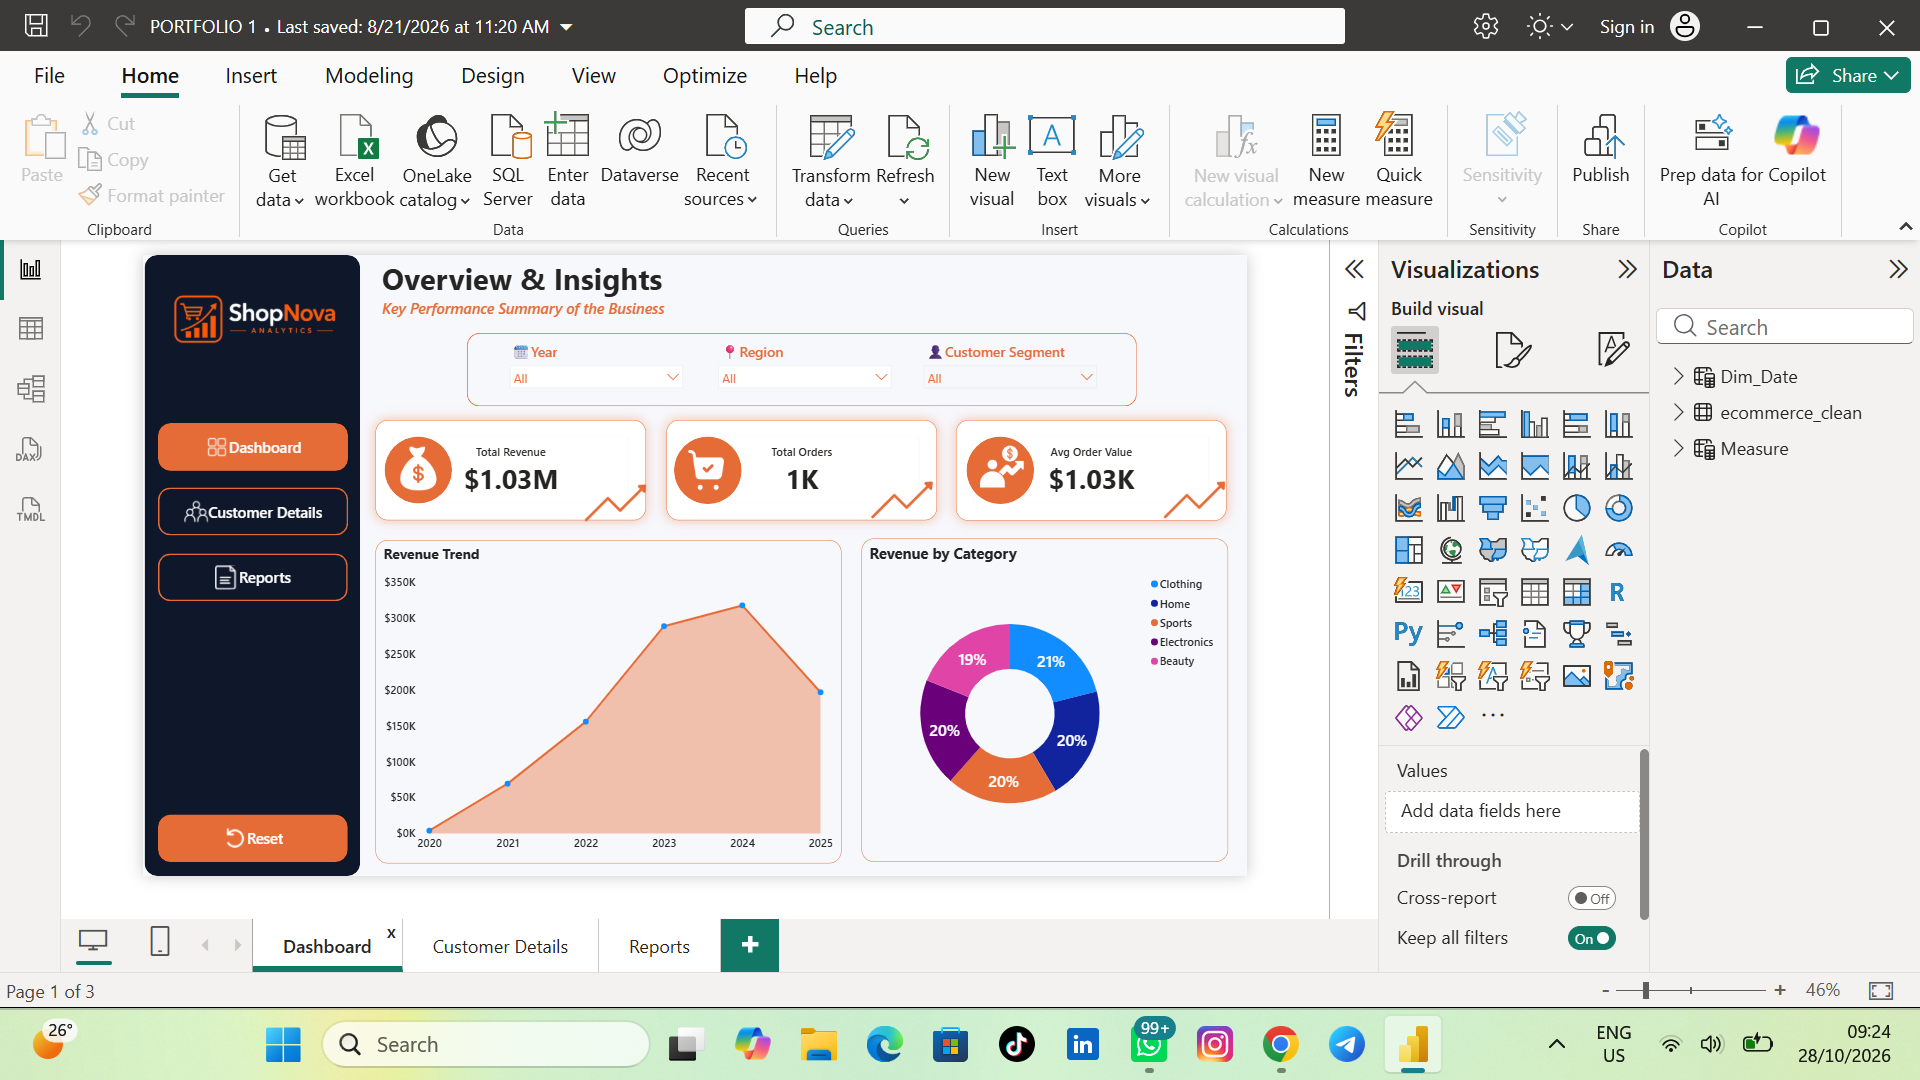

What the dashboard file says about the page in this screenshot:
{"tool":"powerbi","page":{"name":"Dashboard","canvas":[1600,900],"ordinal":0},"visuals":[{"type":"shape","box":[468.8,112.5,970.8,106.2],"z":0},{"type":"shape","box":[349,263.2,98,97],"z":0,"group":"g1"},{"type":"shape","box":[2.6,0,312.5,900],"z":1000},{"type":"image","box":[367.1,272.8,63.4,75.8],"z":1000,"group":"g1"},{"type":"image","box":[14.9,21.3,288,144],"z":3000},{"type":"textbox","box":[341.7,0,477.1,108.3],"z":4000},{"type":"slicer","fields":{"Values":["Dim_Date.Year"]},"box":[520.8,120.8,270.8,97.9],"z":5000},{"type":"slicer","fields":{"Values":["ecommerce_clean.country"]},"box":[822.9,120.8,270.8,97.9],"z":6000},{"type":"slicer","fields":{"Values":["ecommerce_clean.customer_id"]},"box":[1120.8,120.8,270.8,97.9],"z":7000},{"type":"cardVisual","fields":{"Data":["Measure.Total Revenue"]},"box":[337.5,239.7,391.7,145],"z":8000},{"type":"cardVisual","fields":{"Data":["Measure.Total Orders"]},"box":[758.3,239.7,391.7,145],"z":9000},{"type":"cardVisual","fields":{"Data":["Measure.Avg Order Value"]},"box":[1179.2,239.3,391.7,145.8],"z":10000},{"type":"lineChart","title":"Revenue Trend","fields":{"Category":["Dim_Date.Year","Dim_Date.Month"],"Y":["Measure.Total Revenue"]},"box":[337.5,412.5,675,468.8],"z":11000},{"type":"donutChart","title":"Revenue by Category","fields":{"Category":["ecommerce_clean.category"],"Y":["Measure.Total Revenue"]},"box":[1042,410,531.2,468.8],"z":12000},{"type":"actionButton","box":[0,38.8,100,2],"z":13000},{"type":"shape","box":[1193.9,263.3,98,98],"z":14000},{"type":"shape","box":[769.4,263.3,98,98],"z":15000},{"type":"image","box":[743,277,145,69],"z":16000},{"type":"group","id":"g1","title":"Group 1","box":[349,263.2,98,97],"z":17000},{"type":"image","box":[1212.5,245.8,63.3,122.4],"z":18000},{"type":"actionButton","box":[21.8,243.1,275.5,69.4],"z":19000},{"type":"actionButton","box":[21.8,337.2,275.5,69.4],"z":20000},{"type":"actionButton","box":[22.7,433.3,275,69],"z":22000},{"type":"actionButton","box":[21.3,810.6,275,69],"z":23000},{"type":"image","box":[634,250,100,218],"z":24000},{"type":"image","box":[1472.9,245.8,100,218],"z":25000},{"type":"image","box":[1050,245.8,100,218],"z":26000}]}

Visuals, with their boxes on the page's 1600x900 design canvas (x1, y1, x2, y2). These are canvas units, not pixel positions in the 1920x1080 screenshot, which may show the page scaled, cropped or inside an application window:
shape: l=469, t=112, r=1440, b=219
shape: l=349, t=263, r=447, b=360
shape: l=3, t=0, r=315, b=900
image: l=367, t=273, r=430, b=349
image: l=15, t=21, r=303, b=165
textbox: l=342, t=0, r=819, b=108
slicer - Dim_Date.Year: l=521, t=121, r=792, b=219
slicer - ecommerce_clean.country: l=823, t=121, r=1094, b=219
slicer - ecommerce_clean.customer_id: l=1121, t=121, r=1392, b=219
cardVisual - Measure.Total Revenue: l=338, t=240, r=729, b=385
cardVisual - Measure.Total Orders: l=758, t=240, r=1150, b=385
cardVisual - Measure.Avg Order Value: l=1179, t=239, r=1571, b=385
"Revenue Trend" lineChart: l=338, t=412, r=1012, b=881
"Revenue by Category" donutChart: l=1042, t=410, r=1573, b=879
actionButton: l=0, t=39, r=100, b=41
shape: l=1194, t=263, r=1292, b=361
shape: l=769, t=263, r=867, b=361
image: l=743, t=277, r=888, b=346
"Group 1" group: l=349, t=263, r=447, b=360
image: l=1212, t=246, r=1276, b=368
actionButton: l=22, t=243, r=297, b=312
actionButton: l=22, t=337, r=297, b=407
actionButton: l=23, t=433, r=298, b=502
actionButton: l=21, t=811, r=296, b=880
image: l=634, t=250, r=734, b=468
image: l=1473, t=246, r=1573, b=464
image: l=1050, t=246, r=1150, b=464
